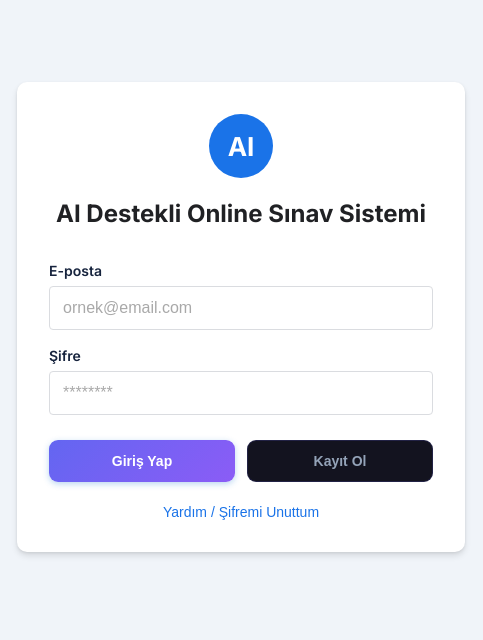
it: Login Page › Kayit Ol butonuna basinca kayit ekranina gecmeli
This screenshot has width=483, height=640.
Click the button "Kayıt Ol": (340, 461) [247,440,433,482]
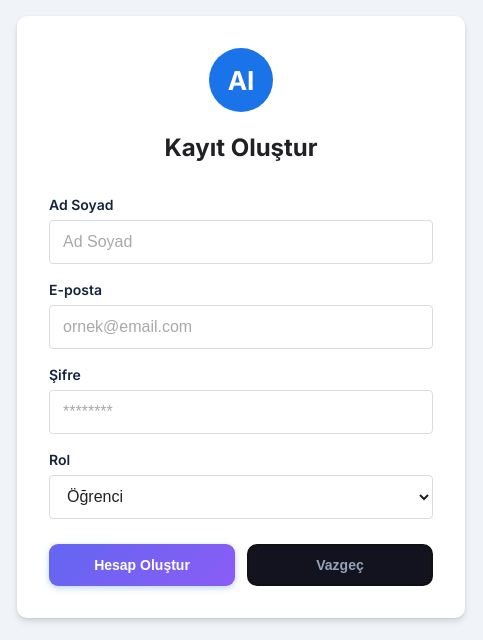
Now the heading "Kayıt Oluştur" is shown, box [164,133,318,162]
Now the field labelled "Ad Soyad" is shown, box [49,220,433,264]
Now the dropdown labelled "Rol" is shown, box [49,475,433,519]
